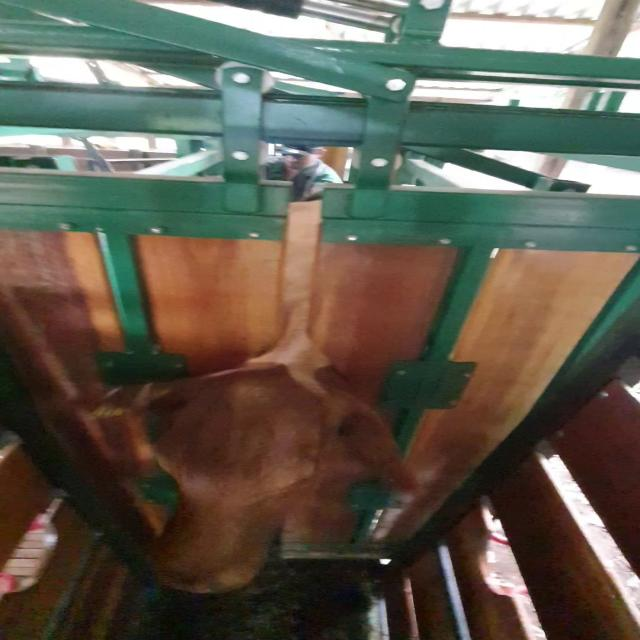cowFace: (151, 371, 332, 594)
